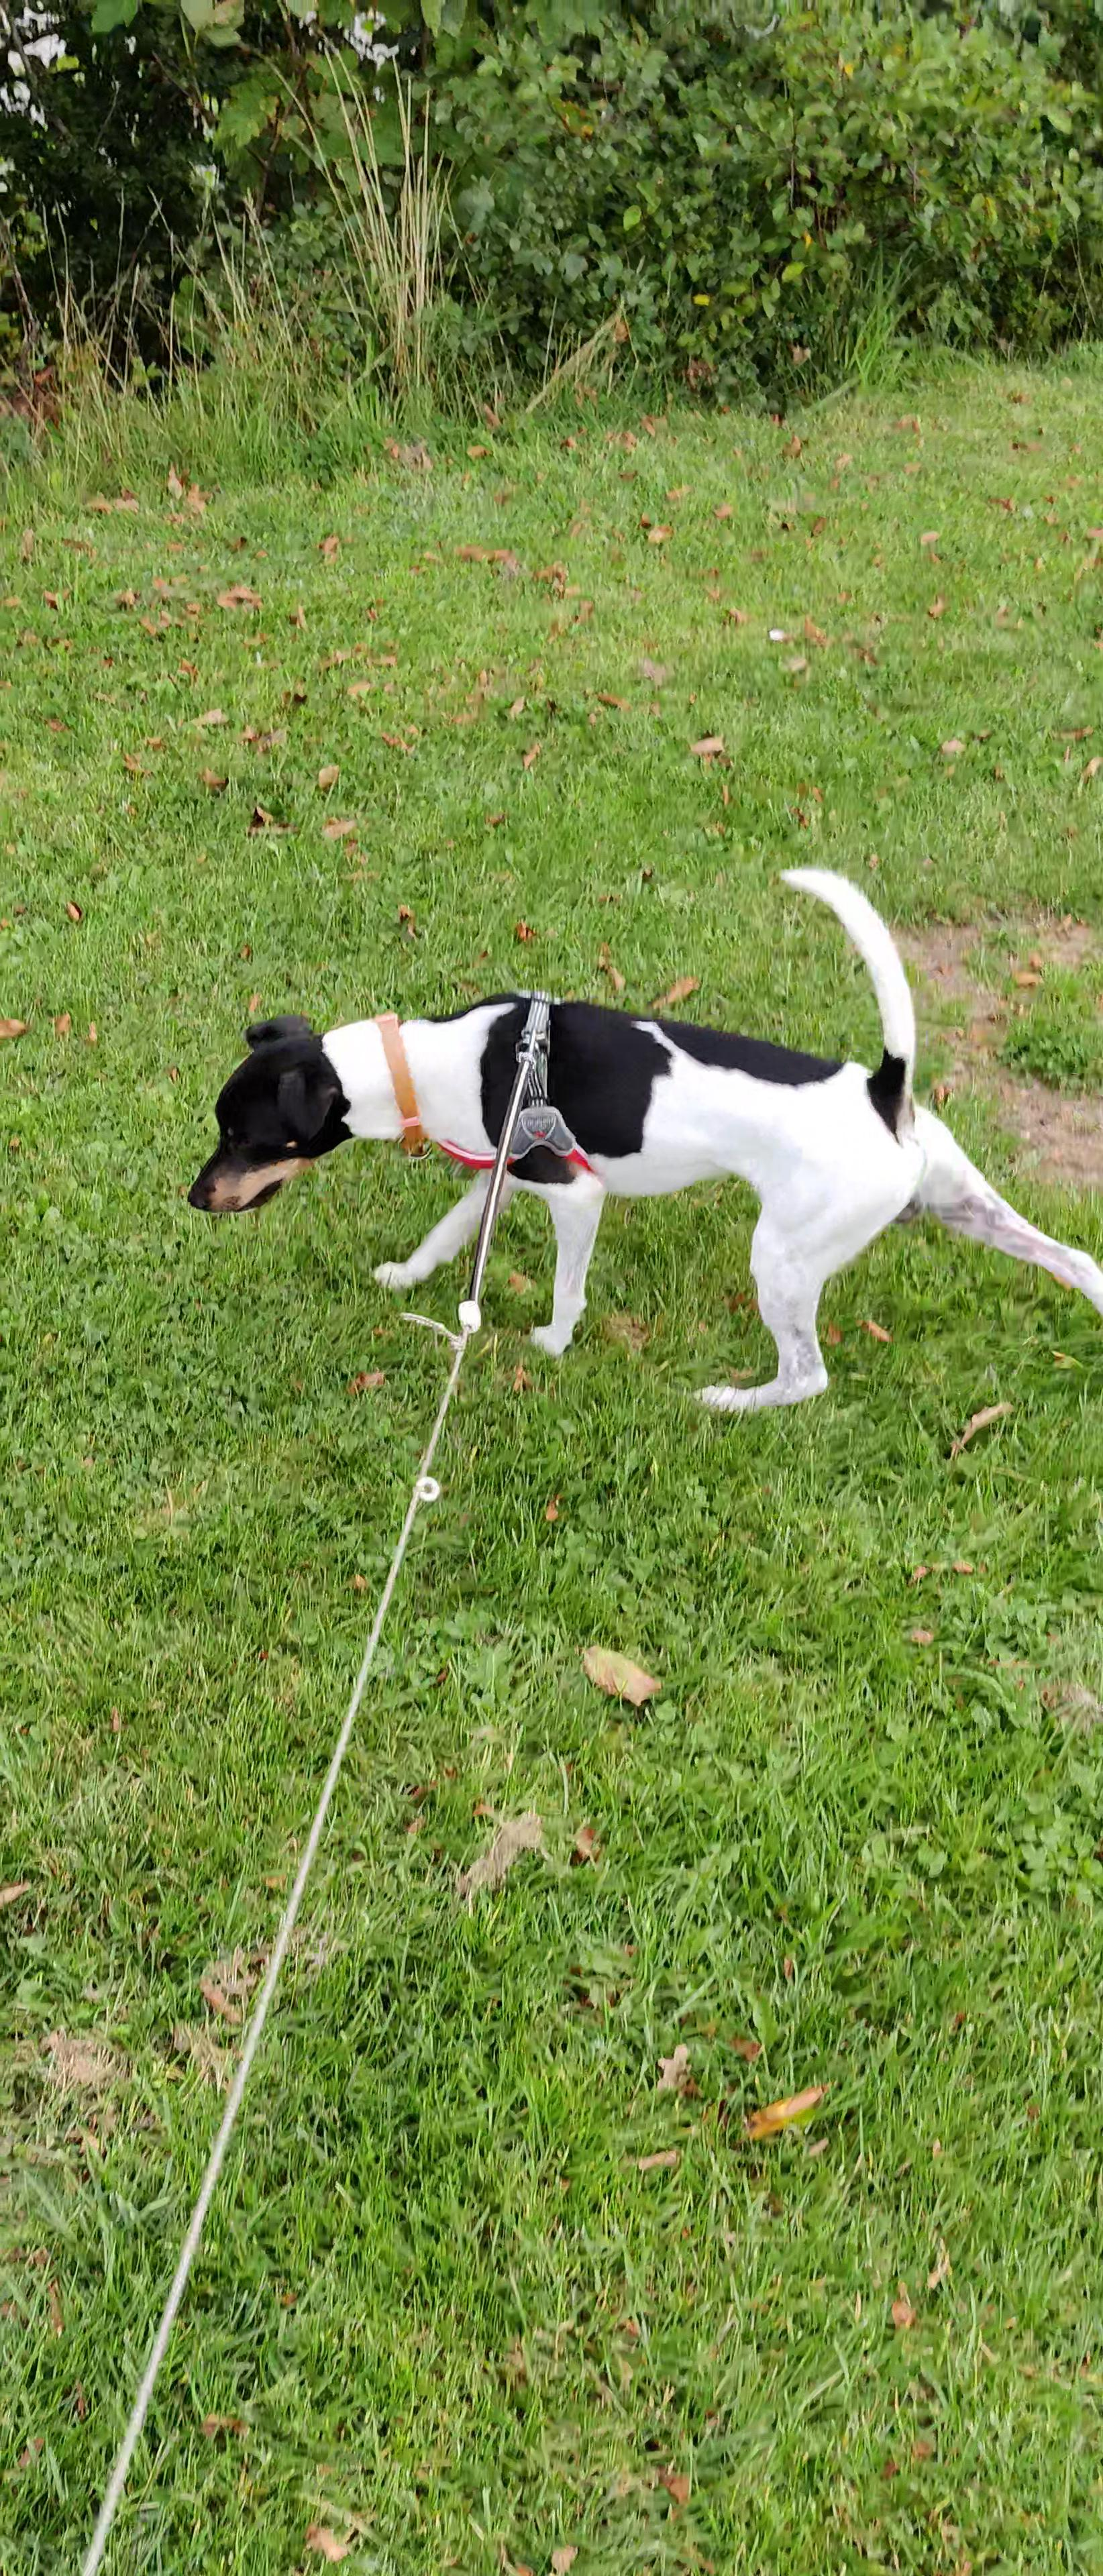Dog: (179, 859, 1103, 1423)
